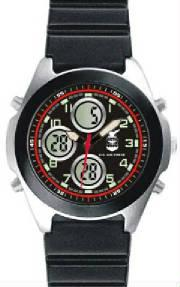watch: (11, 67, 168, 222)
